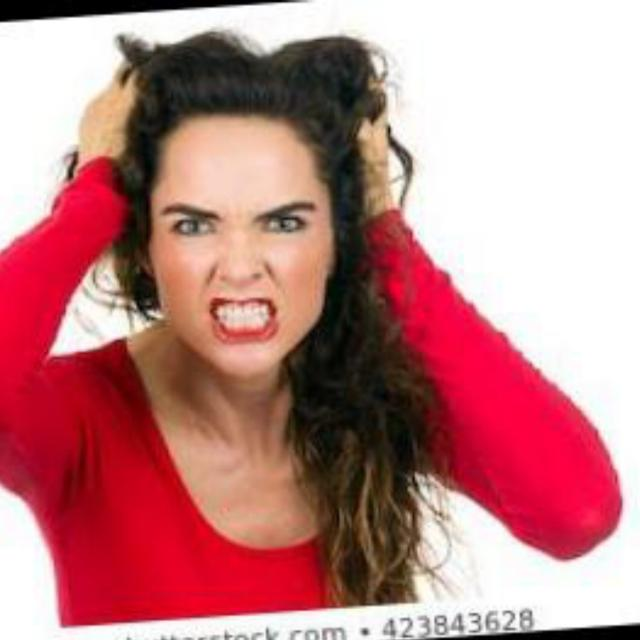Angry: (4, 52, 394, 424)
